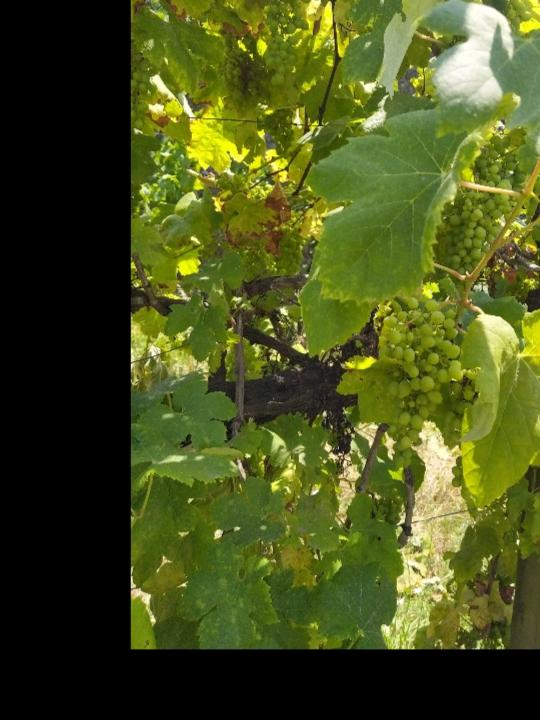grape: (378, 294, 465, 472), (438, 131, 529, 283)
